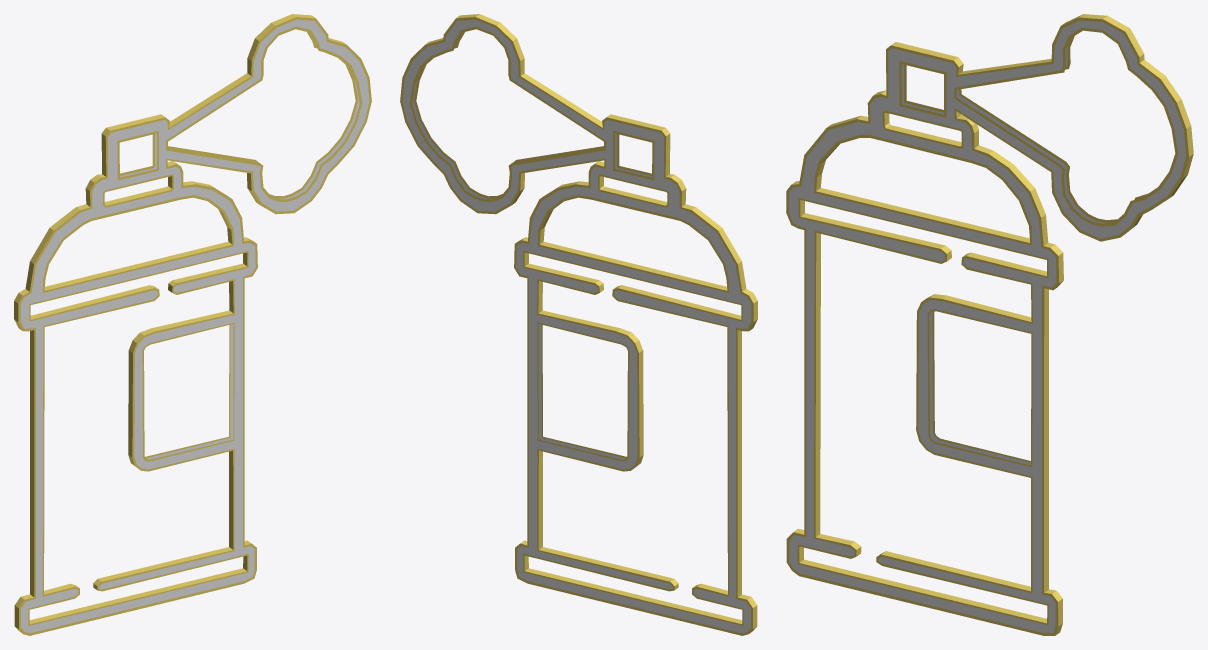
File: Neon Sign 1.fbx
3 views of the same model, side by side, from view 1: azimuth 30°, elevation 25°; view 2: azimuth 150°, elevation 25°; view 3: azimuth 330°, elevation 25° (orthographic). The views are drawn at different scales.
Parts seen in each view (by area): view 1: Plane; view 2: Plane; view 3: Plane.
Part boxes in pixels (x1=…): Plane: x1=14, y1=14, x2=371, y2=635; Plane: x1=400, y1=14, x2=757, y2=635; Plane: x1=786, y1=14, x2=1193, y2=635.
Bounding box in the file's own units: 0.2028 × 0.3035 × 0.00416.
